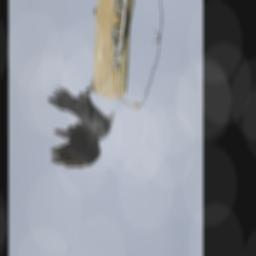Crow: (39, 61, 117, 186)
